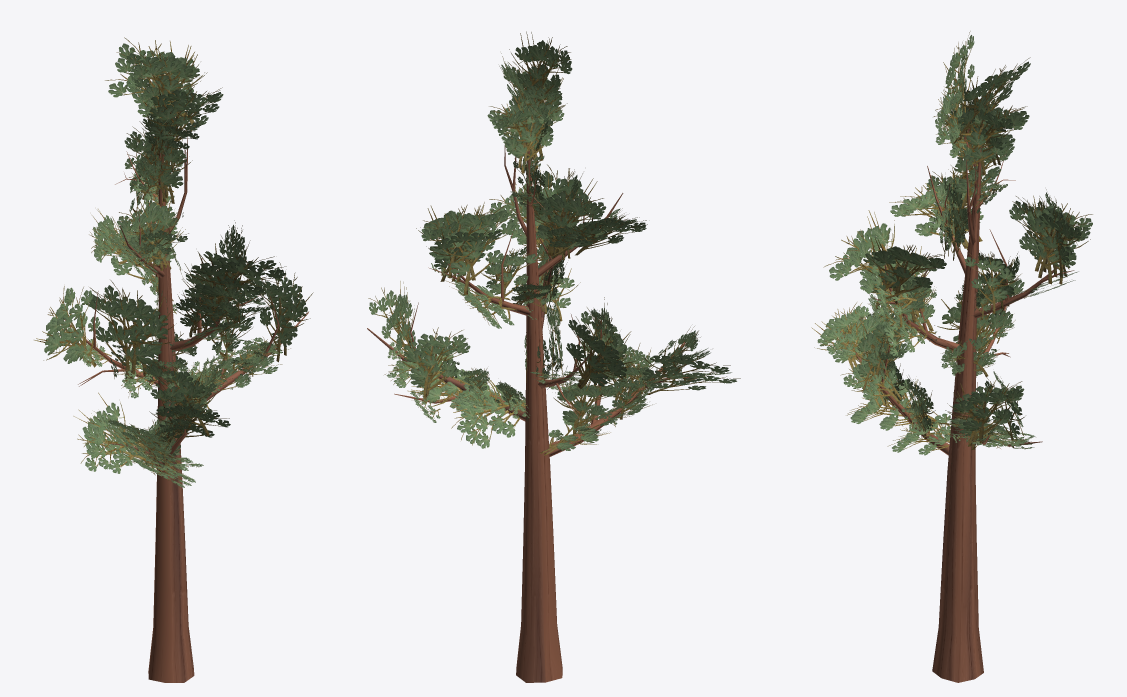
File: TemperateTree.glb
3 renders of one model, left to right at view 1: azimuth 30°, elevation 25°; view 2: azimuth 150°, elevation 25°; view 3: azimuth 270°, elevation 25°, orthographic. The views are drawn at different scales.
Visible parts, largest first — view 1: tree_leaves_particles_higher; view 2: tree_leaves_particles_higher; view 3: tree_leaves_particles_higher.
Part boxes in pixels (<box>): tree_leaves_particles_higher: <box>34,37,313,682</box>; tree_leaves_particles_higher: <box>367,31,740,682</box>; tree_leaves_particles_higher: <box>811,31,1092,682</box>.
Size of the model in its own units: 6.1 by 12 by 5.54.
Materials: 2 (2 with a texture image).
